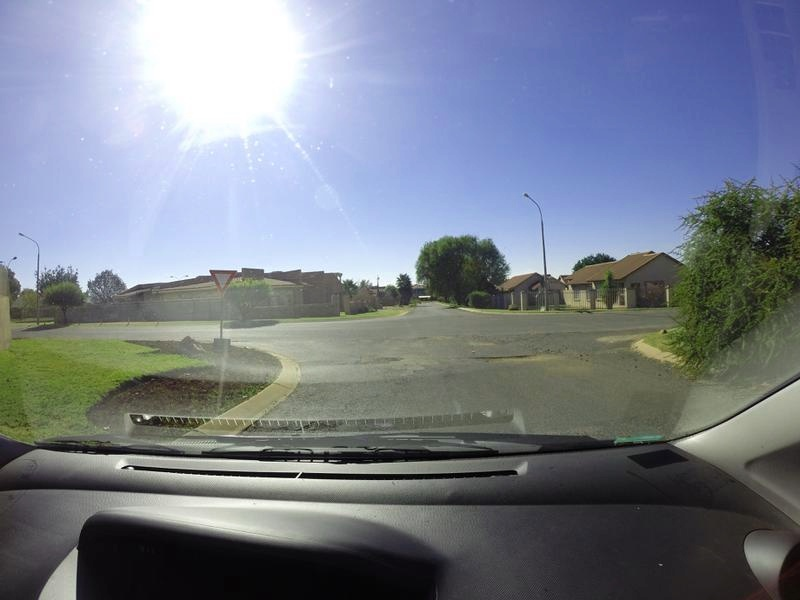pothole: (467, 354, 548, 364), (357, 356, 408, 366), (283, 422, 355, 429)
